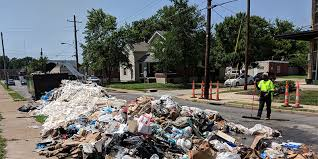garbage: (111, 125, 284, 159), (87, 101, 188, 159), (35, 95, 125, 159), (59, 82, 102, 159)
